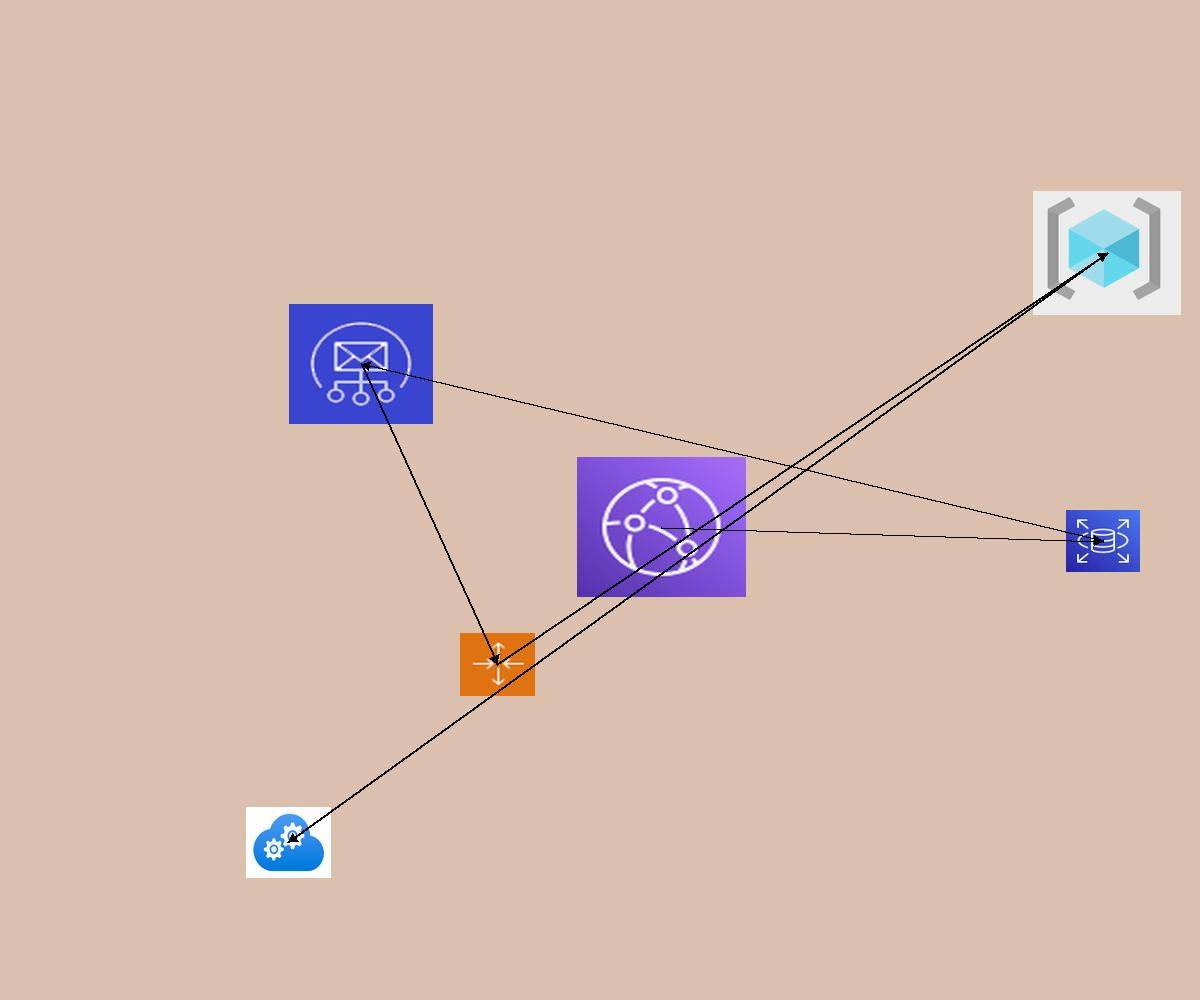AWS-CloudFront: (577, 457, 746, 597)
AWS-RDS: (1066, 510, 1140, 572)
AWS-Scaling-group: (460, 633, 535, 696)
AWS-Simple-Email-Service: (289, 304, 433, 424)
Azure_cloud_services: (246, 807, 331, 878)
Azure_resource_group: (1033, 191, 1181, 315)
